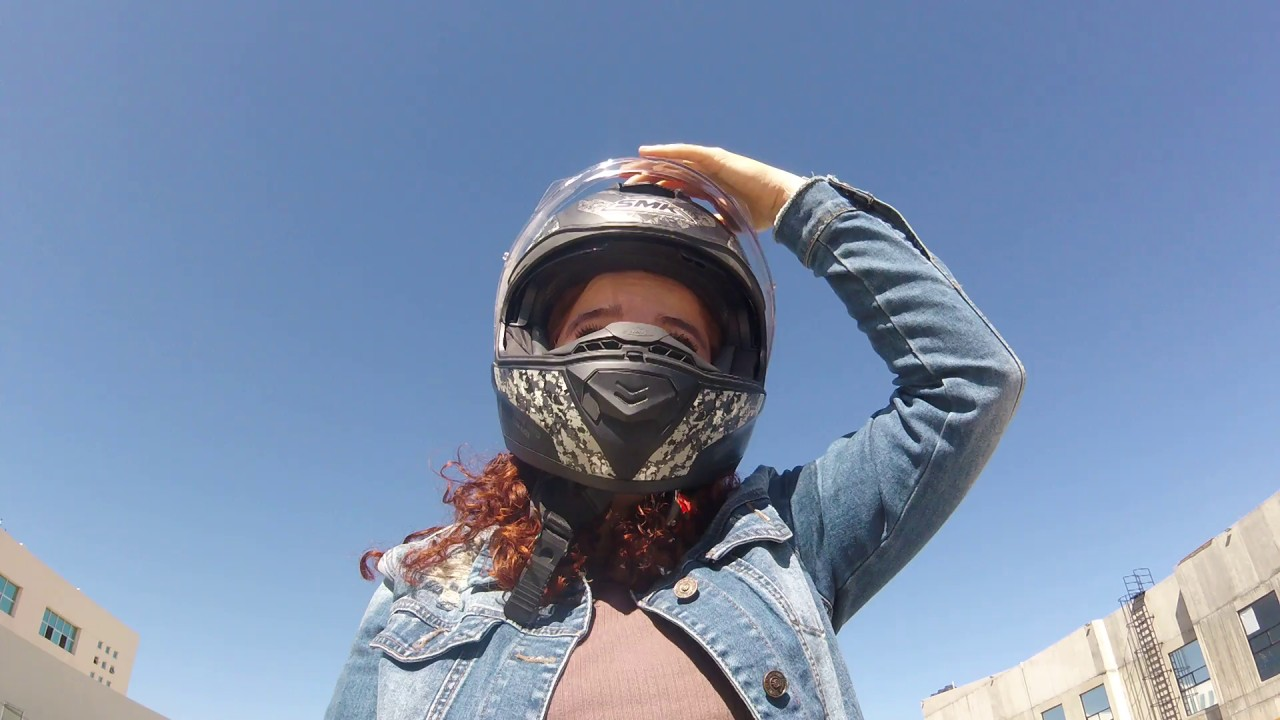With Helmet: (478, 149, 786, 507)
